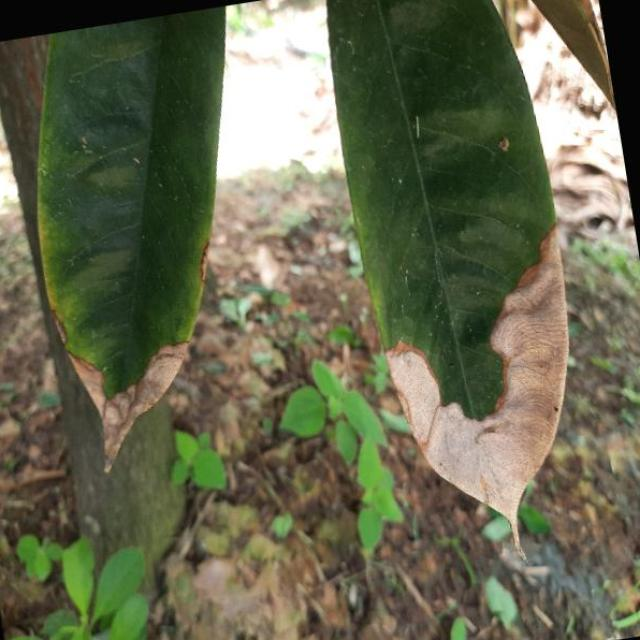Leaf Blight: (309, 0, 614, 564), (0, 6, 298, 480)
